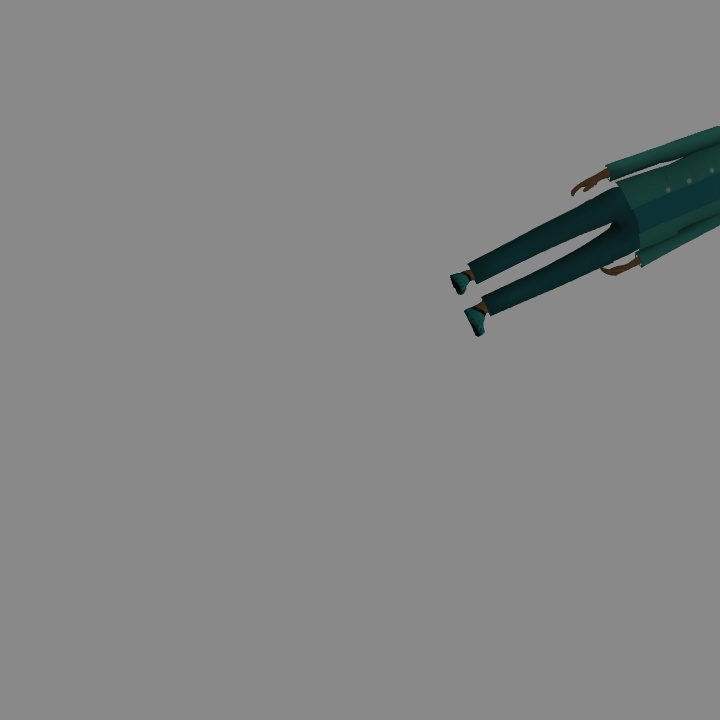victim: (453, 119, 720, 335)
